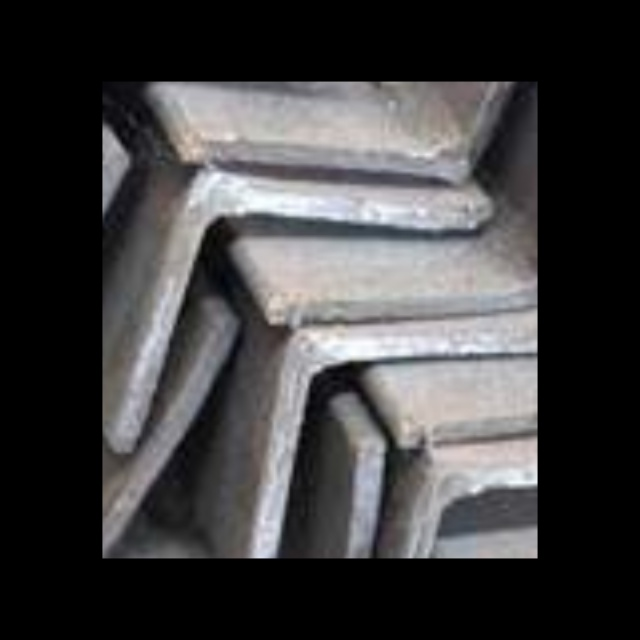Angle: (126, 197, 474, 441), (254, 340, 538, 558), (280, 82, 538, 310), (102, 82, 364, 271), (417, 148, 538, 434), (201, 82, 538, 170), (102, 333, 229, 558), (392, 458, 538, 558), (275, 464, 367, 558), (102, 164, 119, 397)
